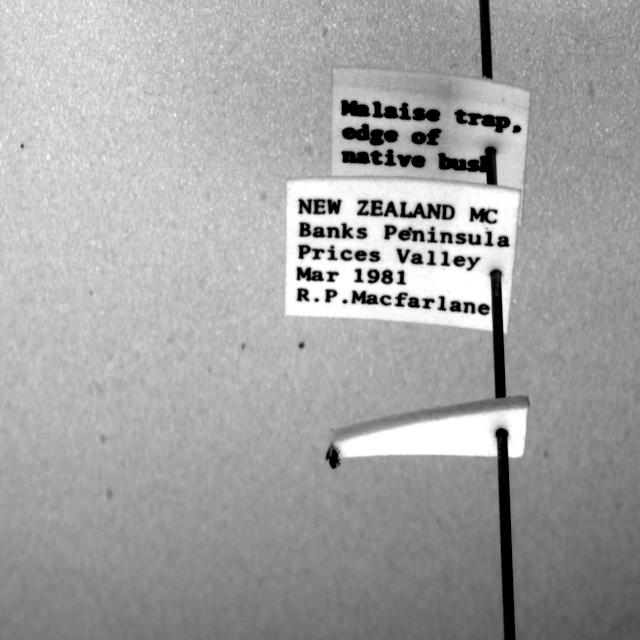typed_label: (285, 178, 520, 330), (331, 66, 530, 225)
